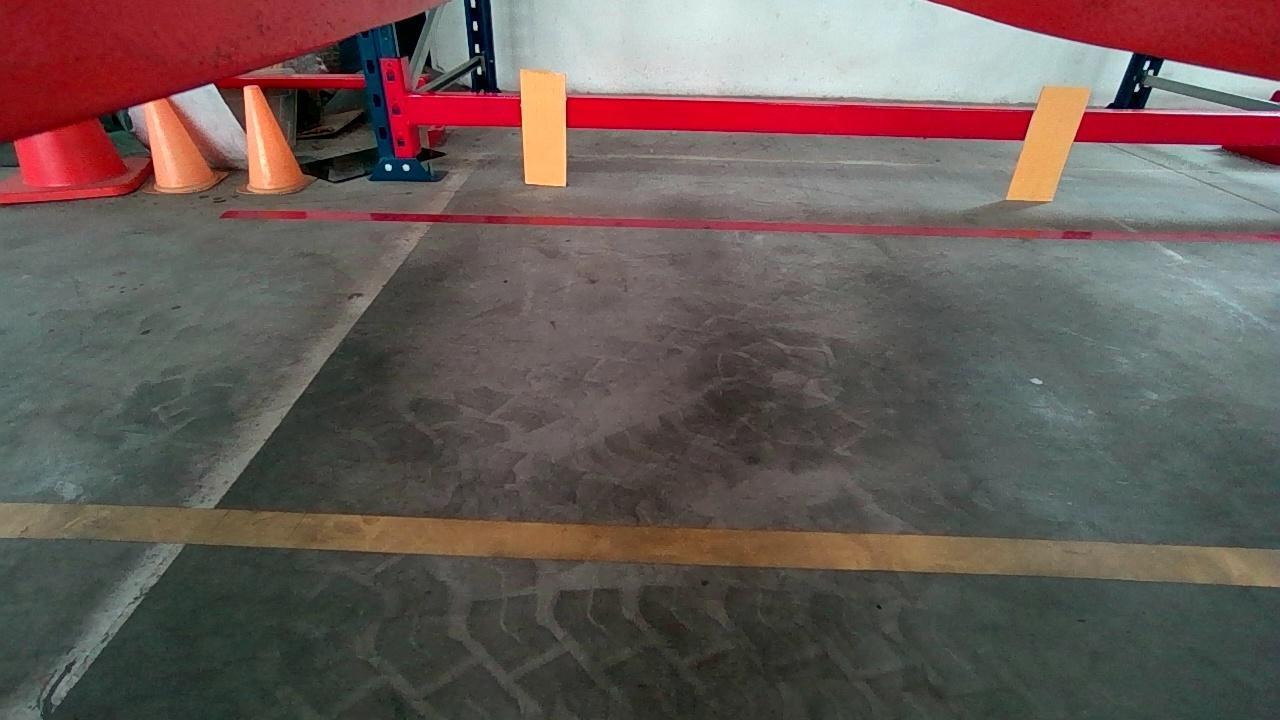h_rack: (407, 98, 1280, 145)
orange_strip: (1007, 85, 1092, 203), (521, 70, 565, 186)
red_line: (224, 208, 1280, 239)
yellow_line: (2, 502, 1280, 587)
